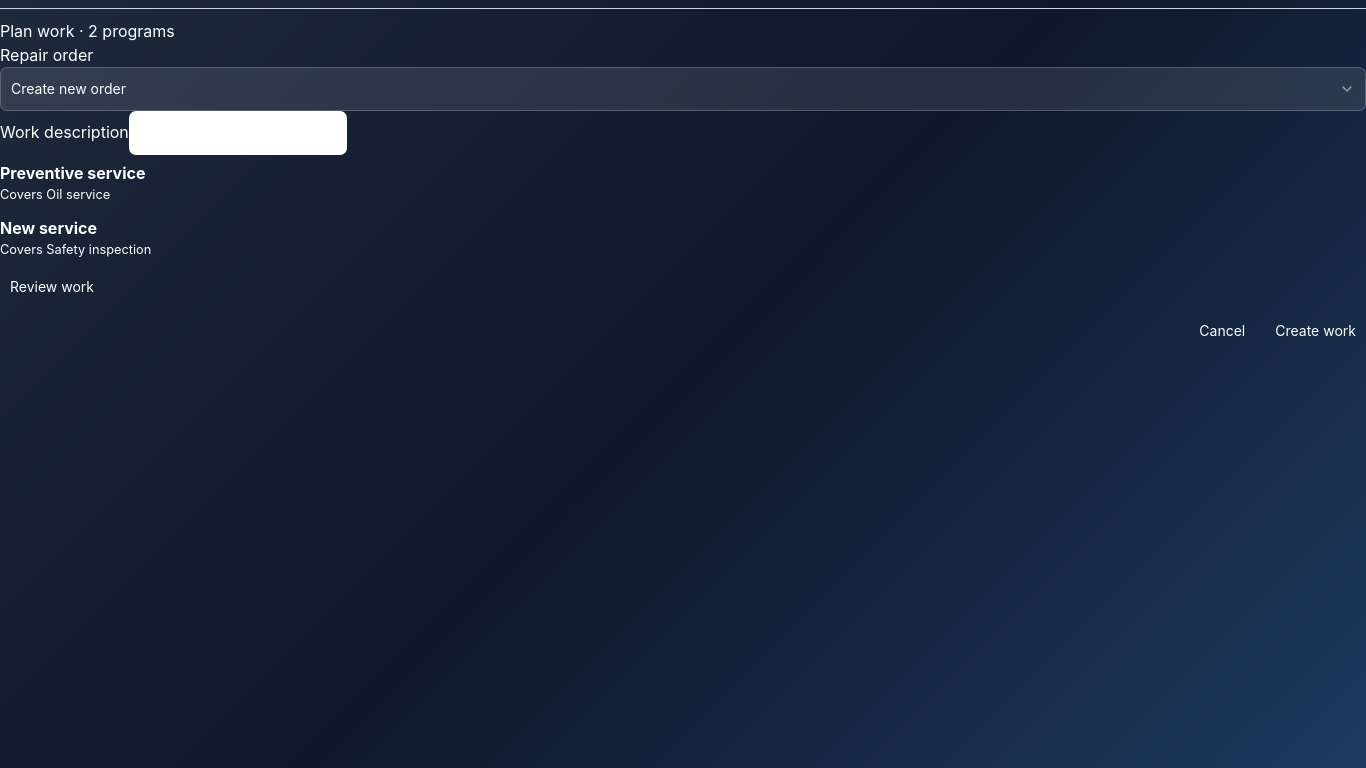
Test case: aggregate maintenance work › does not present current policy as the price of retained work (new work: true)
Click the dropdown named "Repair order" at [68, 88], box [0,67,1365,111]
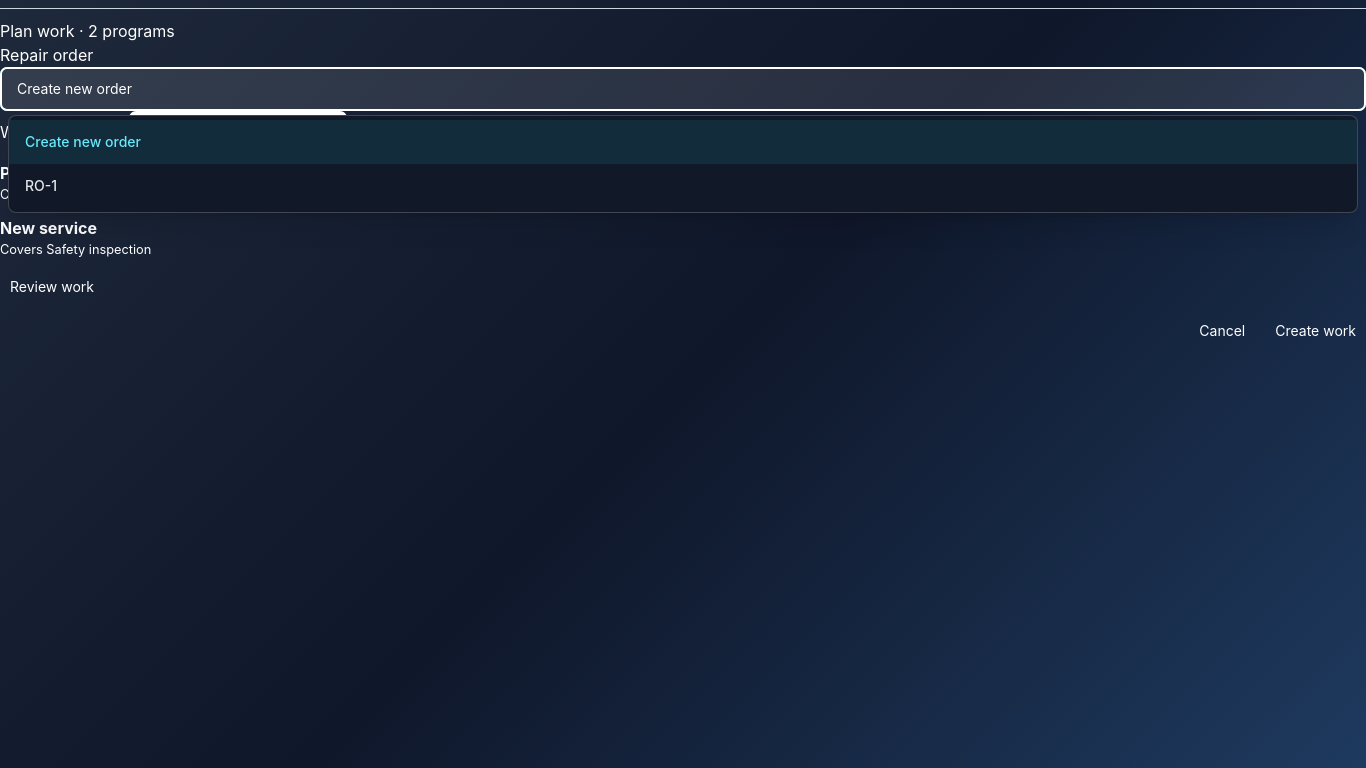
Click the option "RO-1" at [41, 186], box [9,164,1357,208]
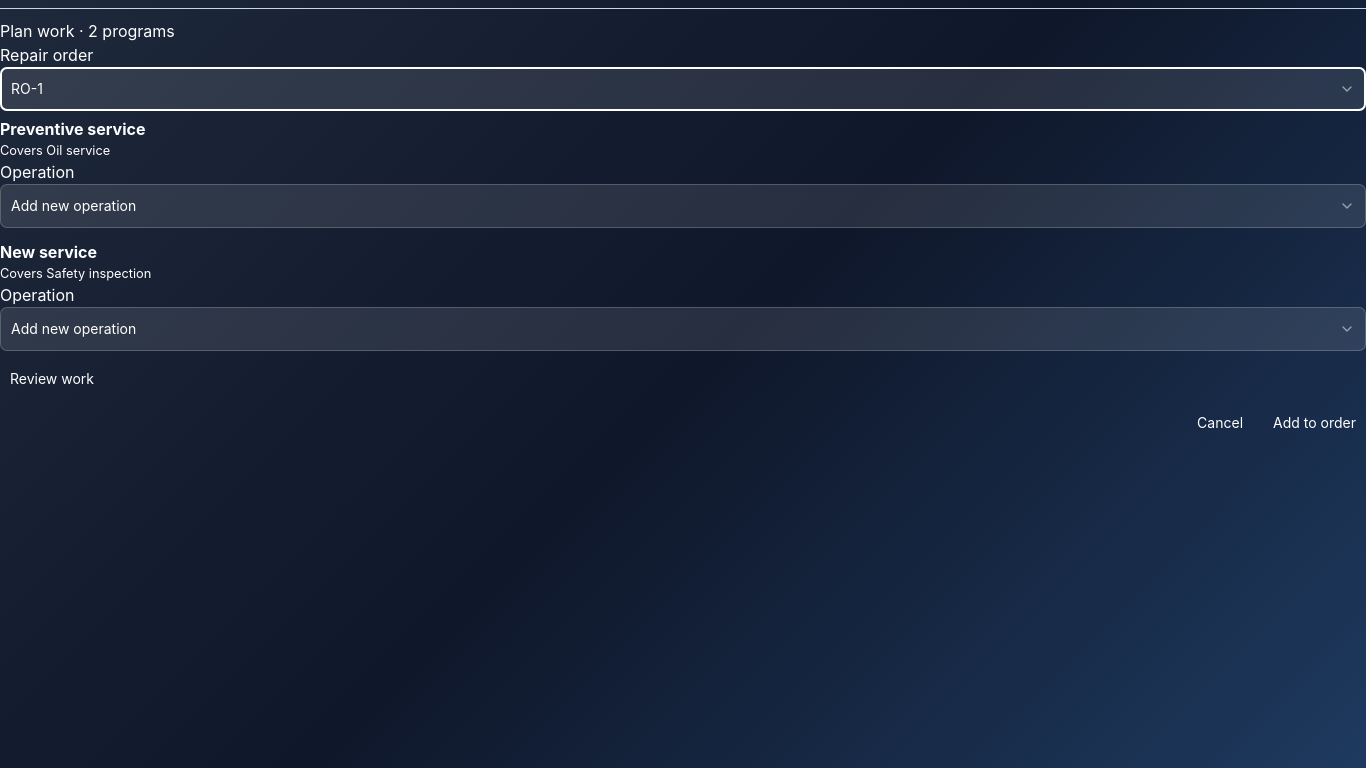
Click the dropdown labelled "operation" below "Oil service" at [74, 206], box [0,184,1365,228]
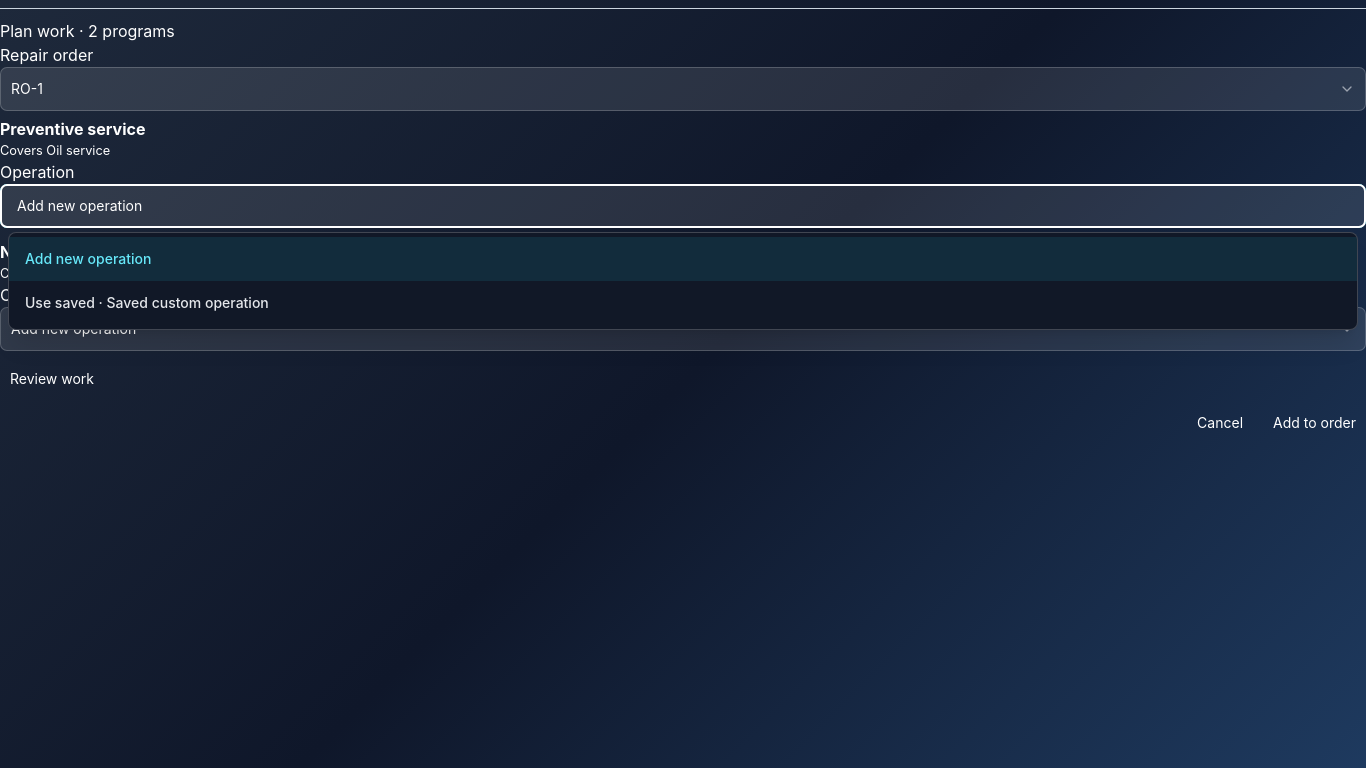
Click the option "Use saved · Saved custom operation" at [147, 303], box [9,281,1357,325]
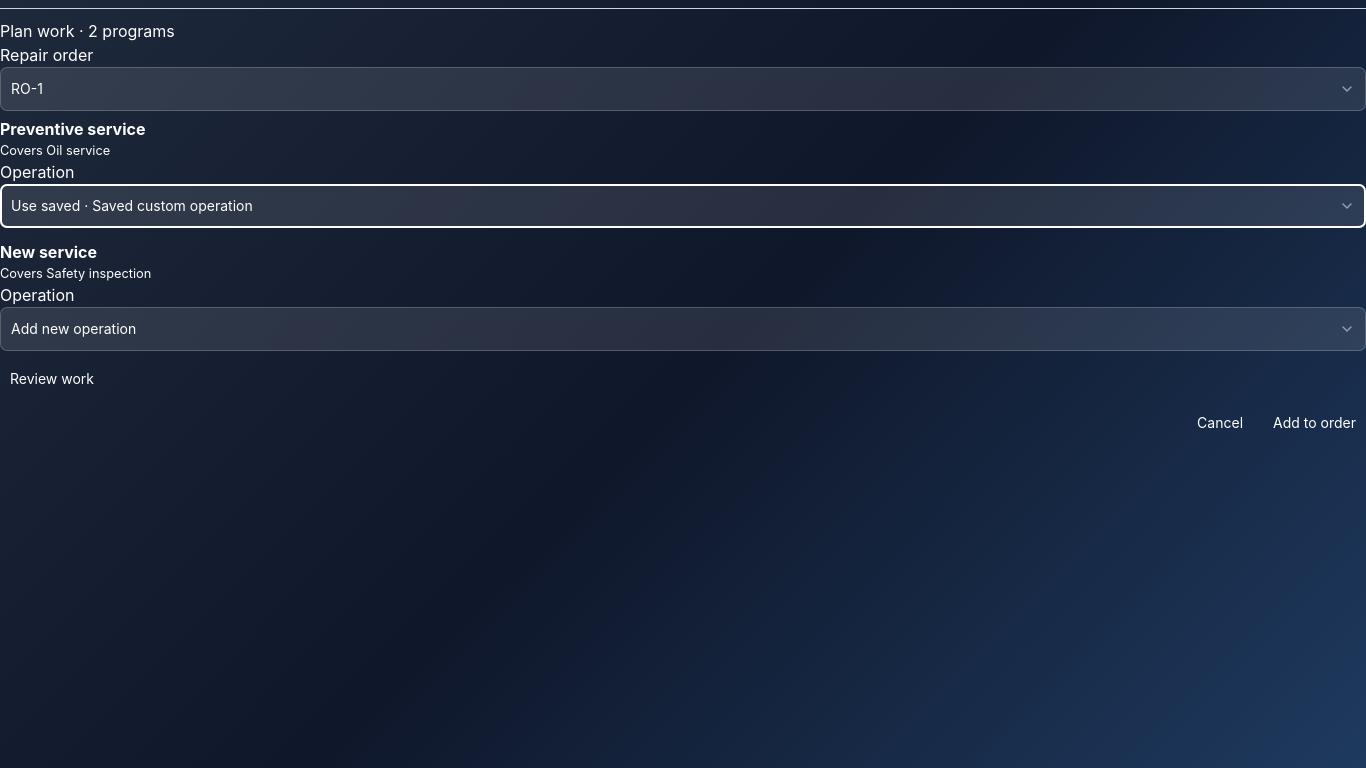
Click the button "Review work" at [52, 379], box [0,357,104,401]
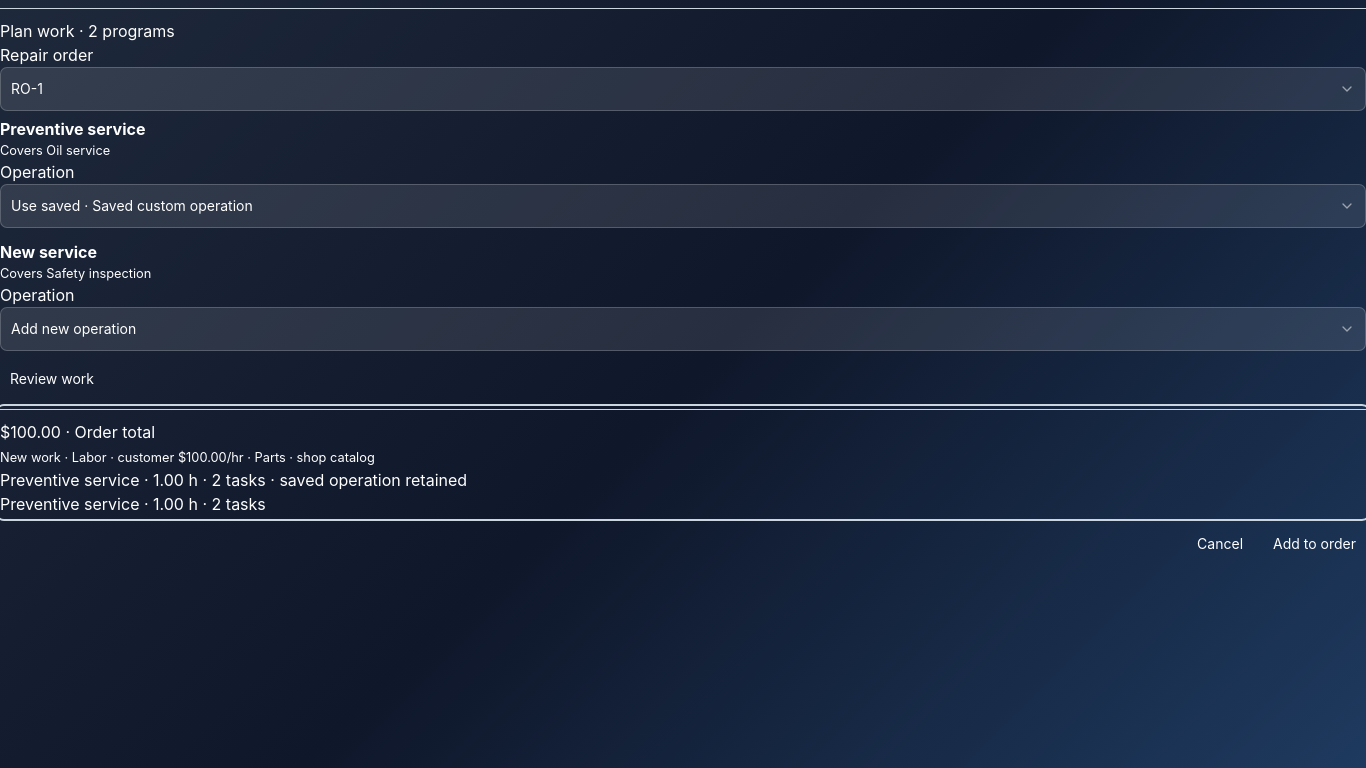
Result: the element named "Work confirmation" is shown at [0,409,1365,516]
Result: the text "saved operation retained" is shown at [266,470,467,490]
Result: the text "New work · Labor · customer" is shown at [0,450,375,465]
